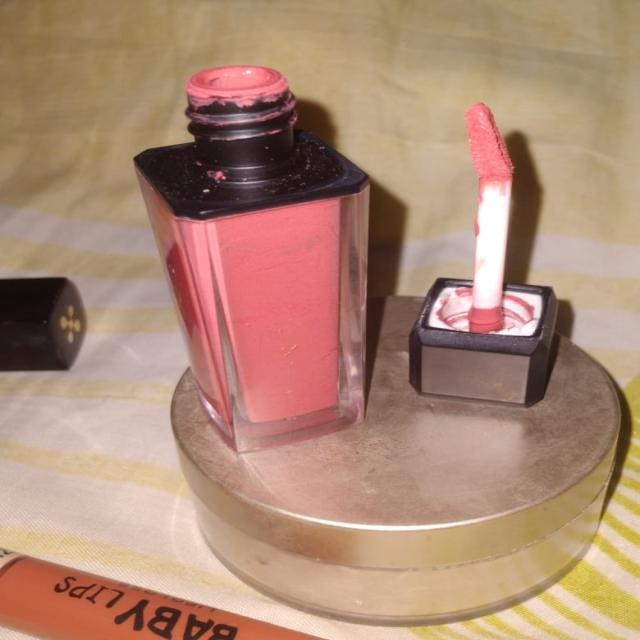lip gloss: (115, 40, 392, 462)
